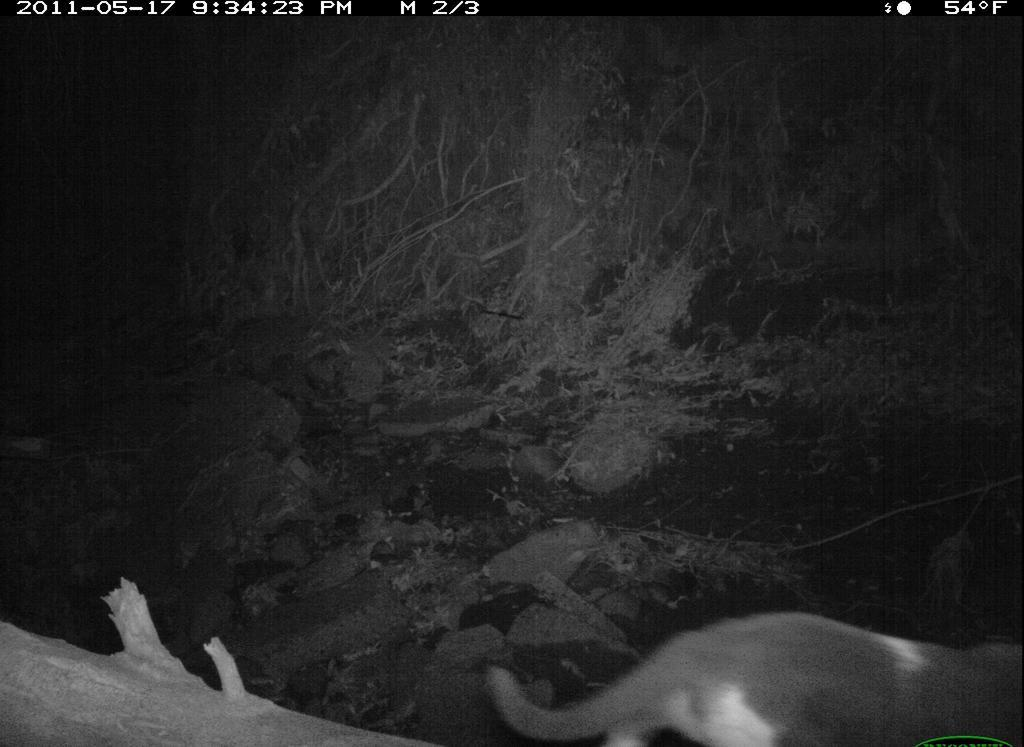cat: (481, 592, 1023, 745)
